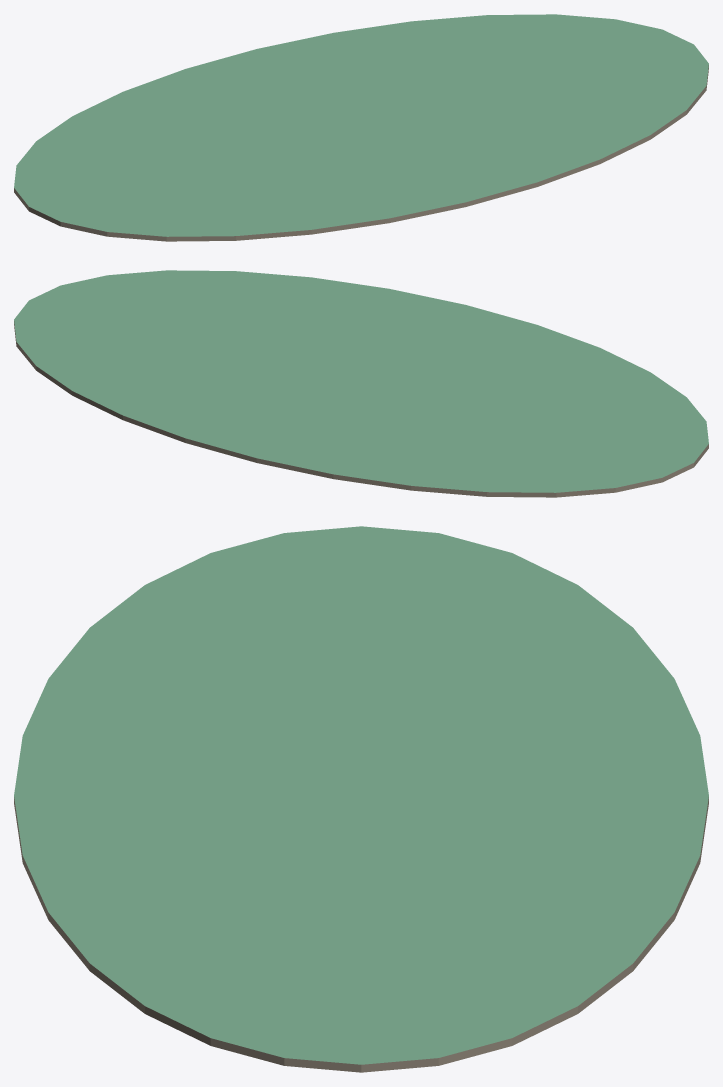
The model's file is RugOval.glb.
3 renders of one model, top to bottom at view 1: azimuth 30°, elevation 25°; view 2: azimuth 150°, elevation 25°; view 3: azimuth 270°, elevation 25°, orthographic. The views are drawn at different scales.
Parts seen in each view (by area): view 1: rug_oval; view 2: rug_oval; view 3: rug_oval.
Part boxes in pixels (box(x1,y1,x2,y2)): rug_oval: box(14, 14, 708, 241); rug_oval: box(14, 270, 708, 497); rug_oval: box(14, 526, 708, 1072).
Size of the model in its own units: 2.2 by 0.015 by 1.2.
